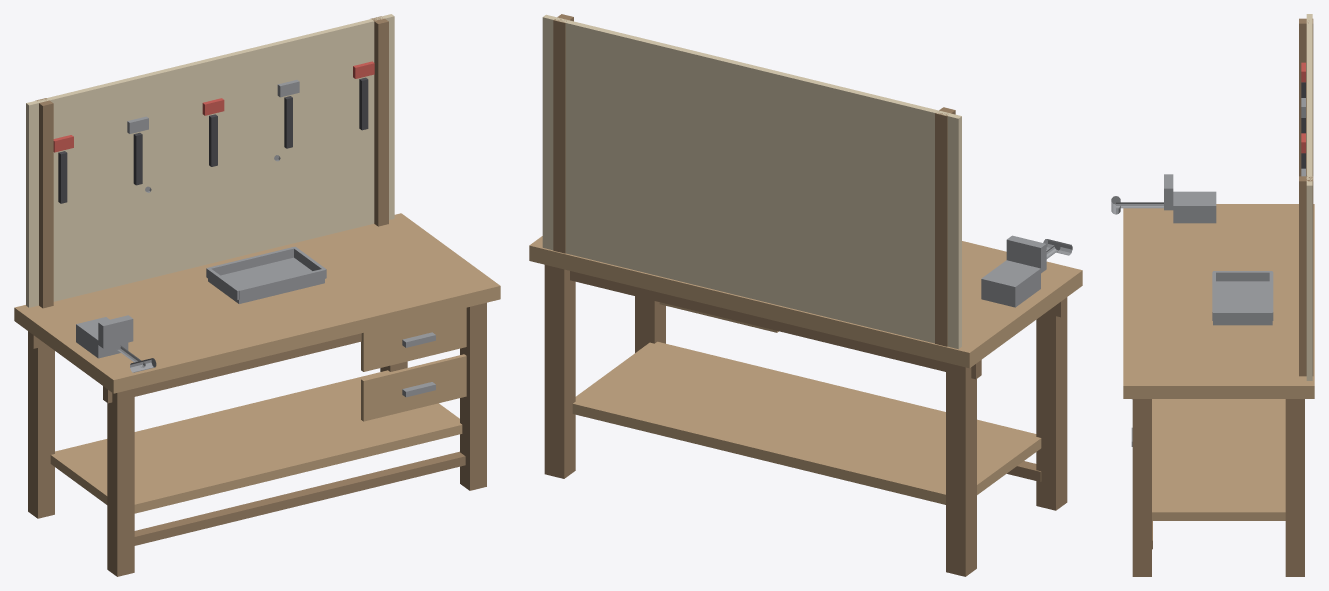
Rendered from workbench.glb.
3 views of the same model, side by side, from view 1: azimuth 30°, elevation 25°; view 2: azimuth 150°, elevation 25°; view 3: azimuth 270°, elevation 25° (orthographic). The views are drawn at different scales.
Visible parts, largest first — view 1: workbench, pegboard, parts_tray; view 2: pegboard, workbench; view 3: workbench, pegboard, parts_tray.
Part boxes in pixels (<box>): workbench: <box>14,213,500,576</box>; pegboard: <box>26,14,394,308</box>; parts_tray: <box>206,246,326,303</box>; pegboard: <box>542,14,961,349</box>; workbench: <box>529,235,1082,576</box>; workbench: <box>1111,174,1314,576</box>; pegboard: <box>1299,14,1313,380</box>; parts_tray: <box>1212,271,1273,325</box>.
Bounding box in the file's own units: 1.8 × 1.8 × 0.849.
